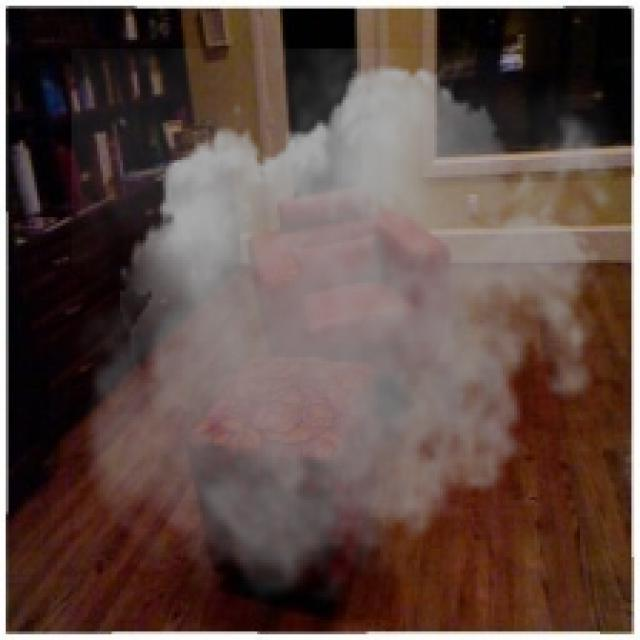smoke: (71, 49, 632, 617)
